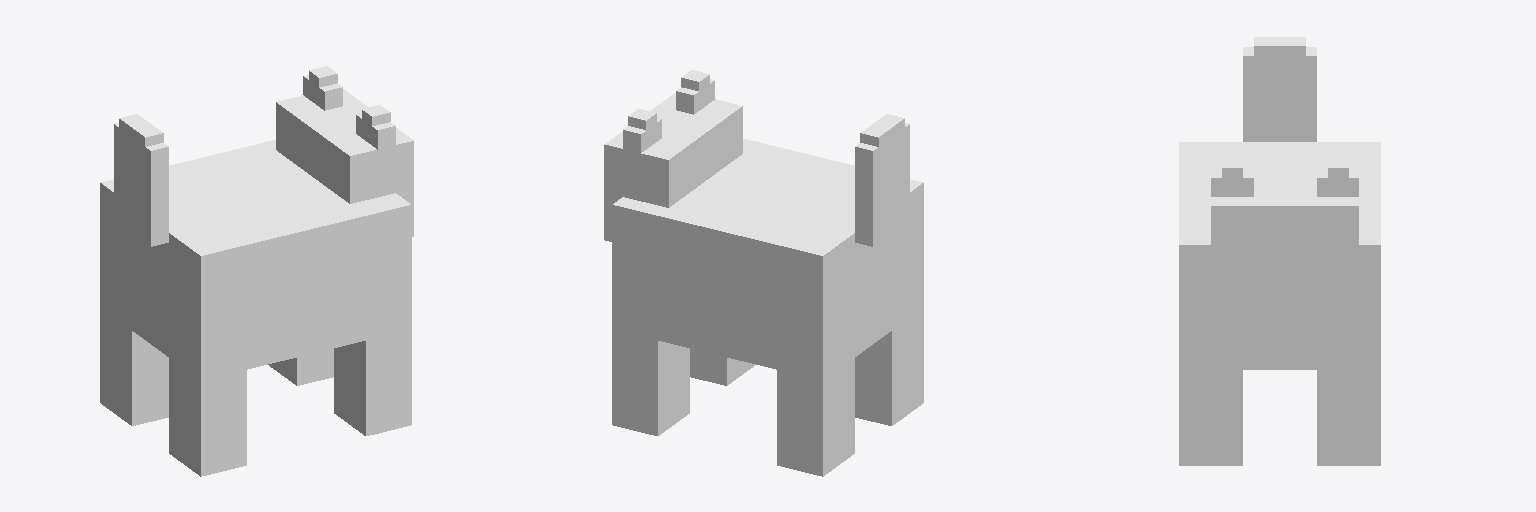
The model's file is red_panda.obj.
The picture shows the model from 3 angles: view 1: azimuth 30°, elevation 25°; view 2: azimuth 150°, elevation 25°; view 3: azimuth 270°, elevation 25°; orthographic projection.
Parts seen in each view (by area): view 1: object 1; view 2: object 1; view 3: object 1.
Boxes of the visible parts, x1,y1,x2,y2 form: object 1: [100, 66, 413, 476]; object 1: [604, 70, 923, 476]; object 1: [1179, 37, 1380, 465].
Bounding box in the file's own units: 2.7 × 3.3 × 1.9.